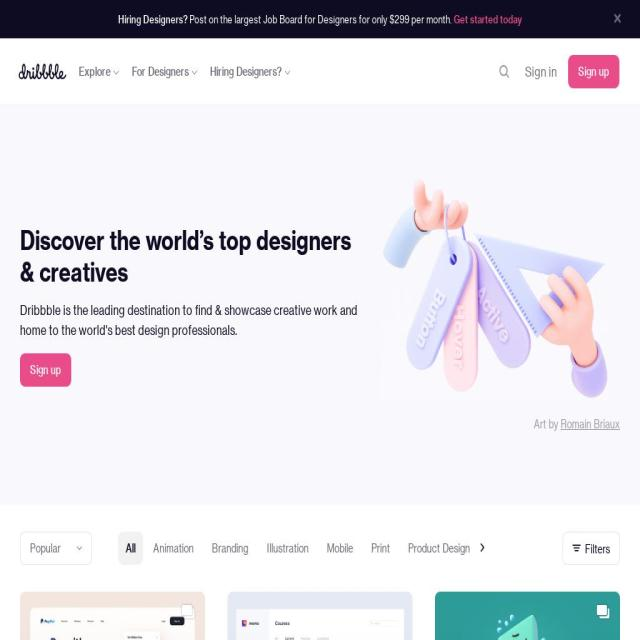button: (20, 591, 205, 640), (227, 591, 412, 640), (435, 591, 620, 640), (19, 38, 66, 105), (400, 532, 478, 565), (20, 532, 92, 565), (480, 532, 546, 565), (548, 532, 612, 565), (562, 532, 620, 565), (259, 532, 316, 565), (146, 532, 201, 565), (20, 353, 71, 387), (568, 55, 620, 88), (204, 532, 256, 565), (210, 62, 291, 82), (318, 532, 361, 565), (132, 62, 197, 82), (363, 532, 398, 565), (470, 532, 495, 565), (118, 532, 143, 565), (79, 62, 119, 82), (525, 62, 557, 82), (608, 5, 628, 33)
heading: (20, 223, 370, 287)
image: (370, 178, 620, 399), (20, 591, 205, 640), (227, 591, 412, 640), (435, 591, 620, 640), (19, 38, 66, 105), (180, 602, 196, 622), (596, 602, 610, 622), (612, 12, 622, 25), (500, 65, 510, 78), (572, 543, 580, 554), (479, 542, 486, 552), (76, 544, 82, 553), (113, 70, 119, 76), (192, 70, 198, 76), (284, 70, 290, 76)
link: (561, 417, 620, 431), (454, 13, 522, 25)
text: (20, 300, 370, 340), (187, 13, 453, 25), (568, 55, 620, 88), (210, 64, 284, 78), (118, 13, 188, 25), (132, 64, 191, 78), (525, 63, 557, 79), (79, 64, 113, 78), (30, 541, 61, 555), (584, 542, 610, 558), (534, 417, 560, 431)
